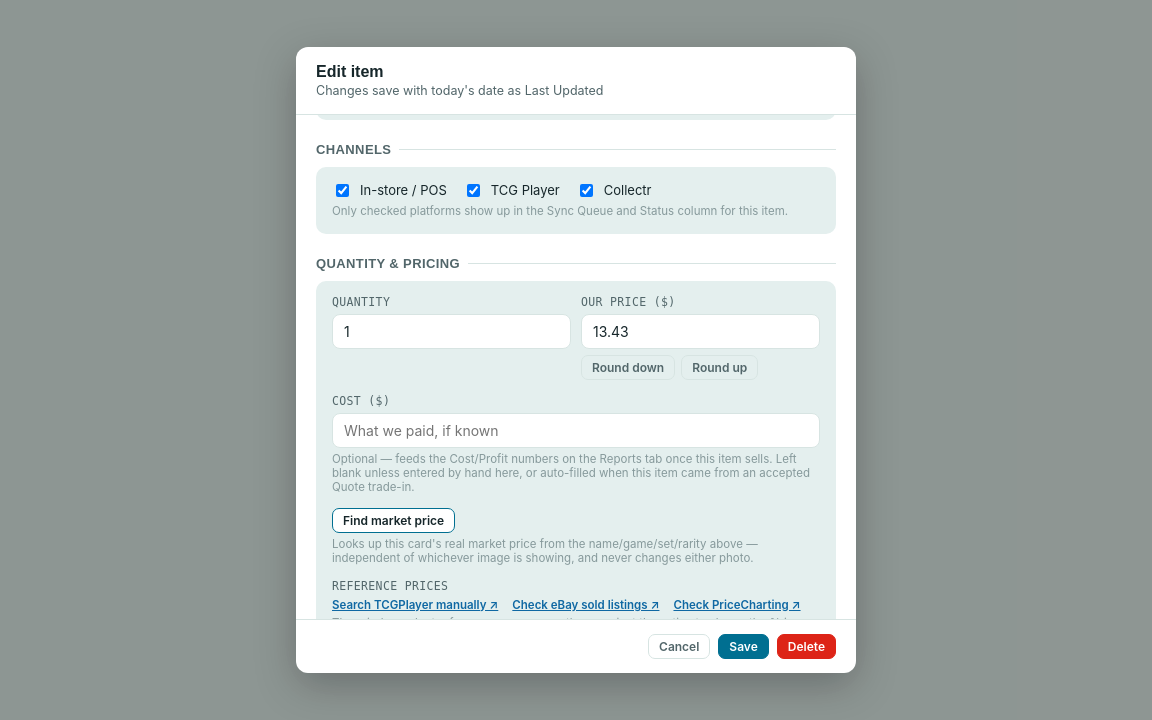
Test: EditModal — image candidate selection › rounds Our Price down to the next whole dollar
(page scrolled)
Click the button "Round down".
click(628, 367)  # box 581,354 -> 675,380
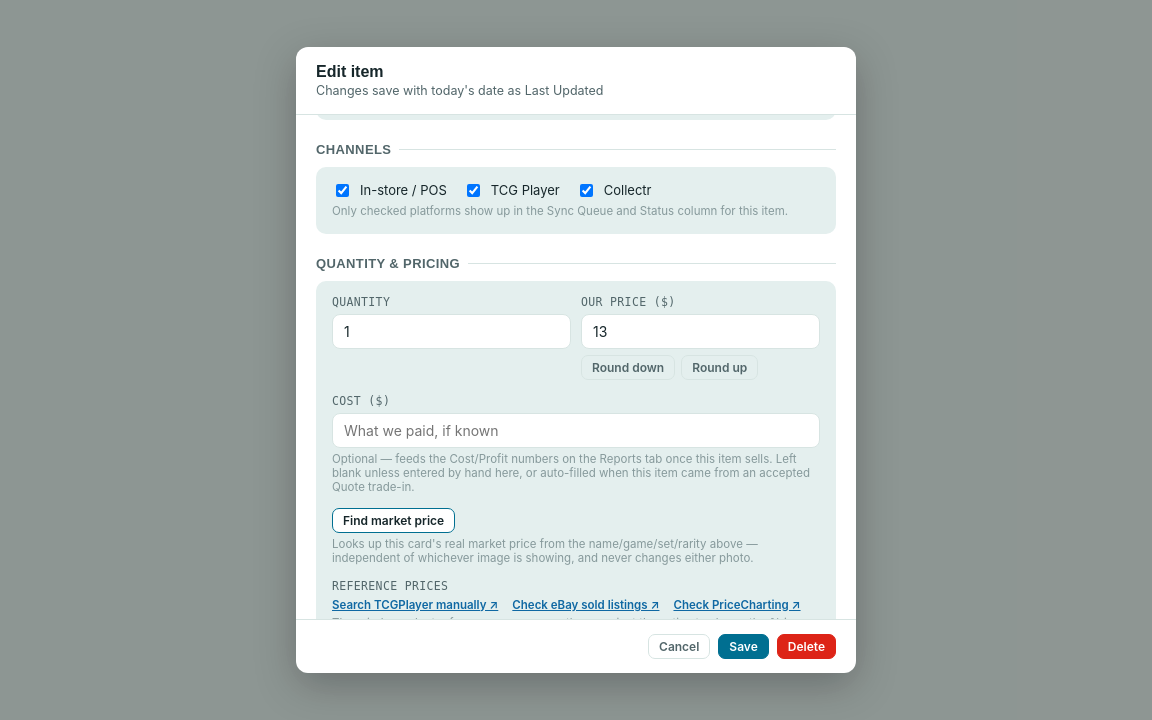
Now the number field showing "13.43" below "Our price ($)" holds "13", box 581,314 -> 820,348
